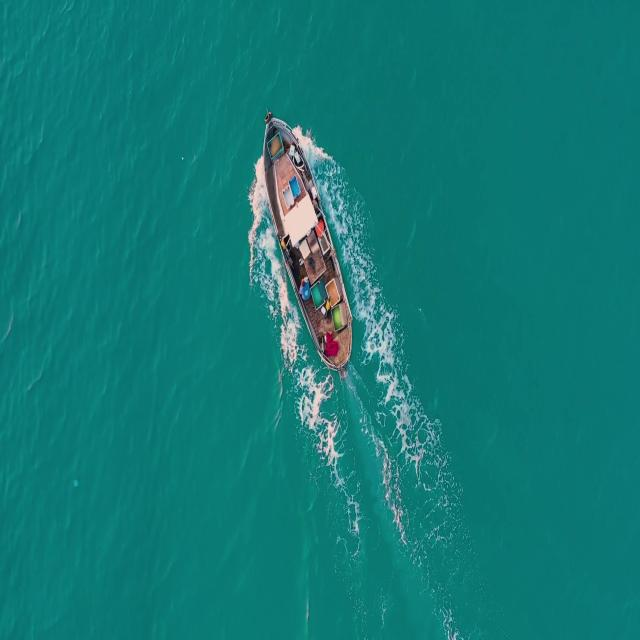ship: (262, 108, 355, 374)
